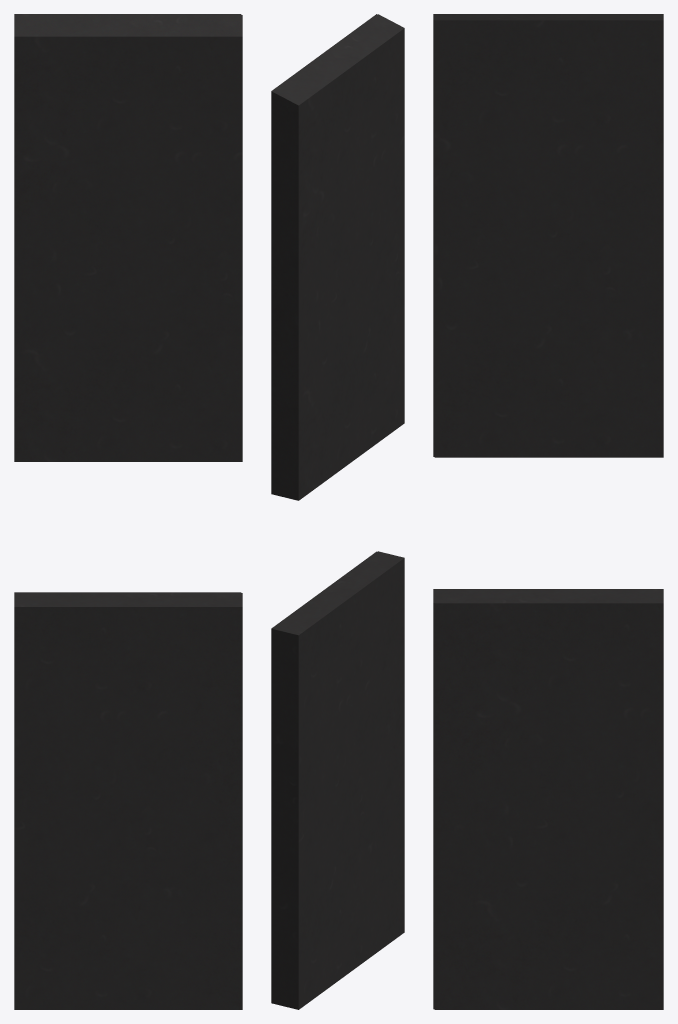
Rendered from A13.1.1 H.WALL. PNL 2098 UP + 1950 DWN.fbx.
The picture shows the model from 3 angles, left to right: view 1: azimuth 90°, elevation 25°; view 2: azimuth 150°, elevation 25°; view 3: azimuth 270°, elevation 25°; orthographic projection. The views are drawn at different scales.
Parts seen in each view (by area): view 1: Model, Group1; view 2: Model, Group1; view 3: Model, Group1.
Boxes of the visible parts, x1,y1,x2,y2 form: Model: (14, 14, 242, 461); Group1: (14, 592, 242, 1009); Model: (271, 14, 404, 500); Group1: (271, 551, 404, 1009); Model: (433, 14, 663, 457); Group1: (433, 589, 663, 1009).
Bounding box in the file's own units: 150 × 4748 × 1000.
